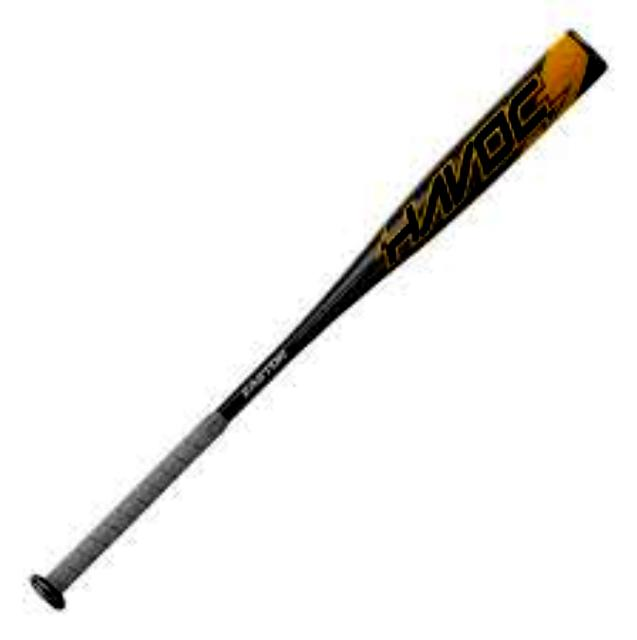baseball bat: (29, 26, 609, 608)
